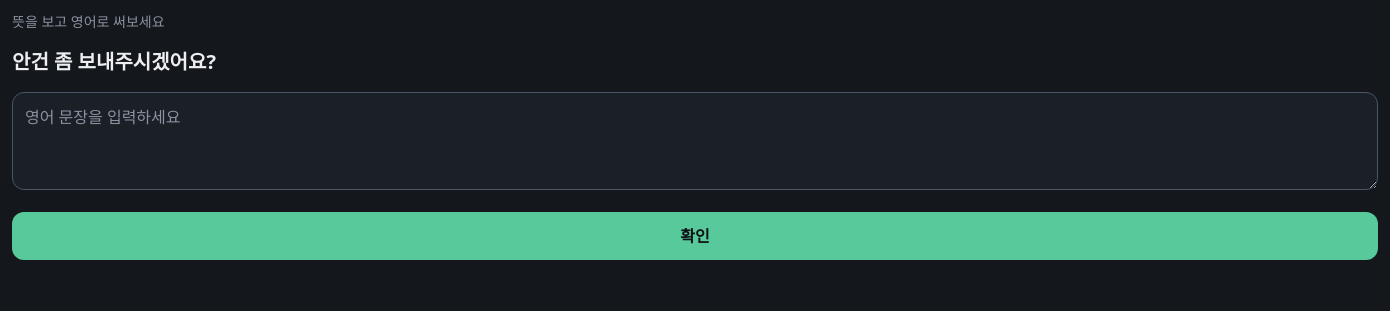
Test: WriteSentenceCard › shows the translation as the prompt and accepts a correct sentence
Later steps or results of the test are not shown.
Expected: the text "안건 좀 보내주시겠어요?" is shown, [12,48,216,75]
Type "could you send me the agenda" into the text box at (695, 140), box [12,92,1378,190]
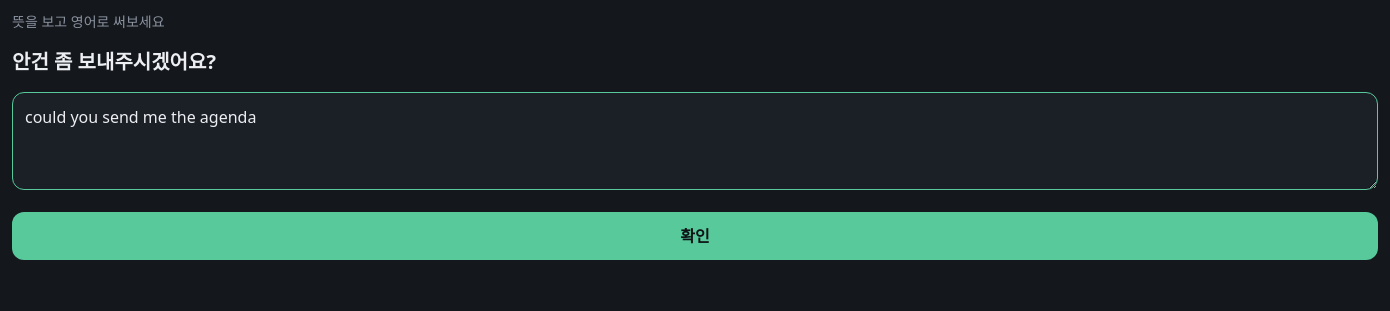
Click the button "확인" at (695, 236), box [12,212,1378,260]
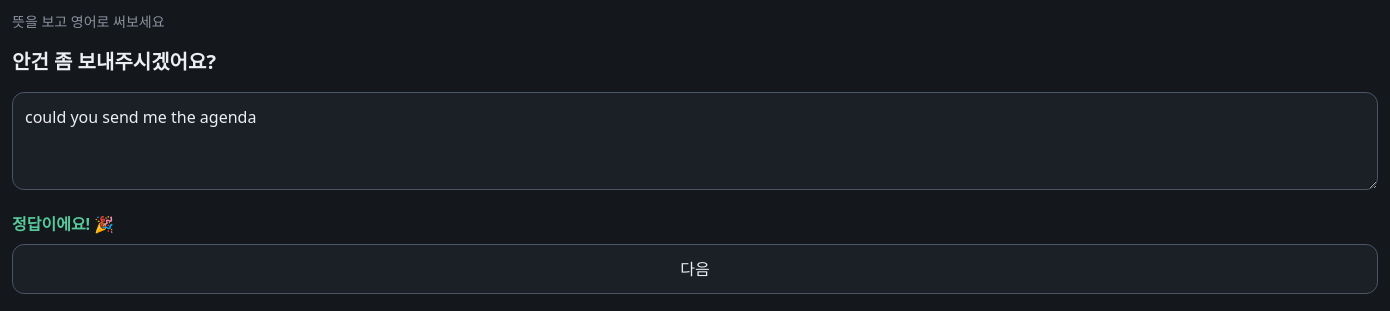
Expected: the text "정답이에요! 🎉" is shown, [12,212,114,234]
